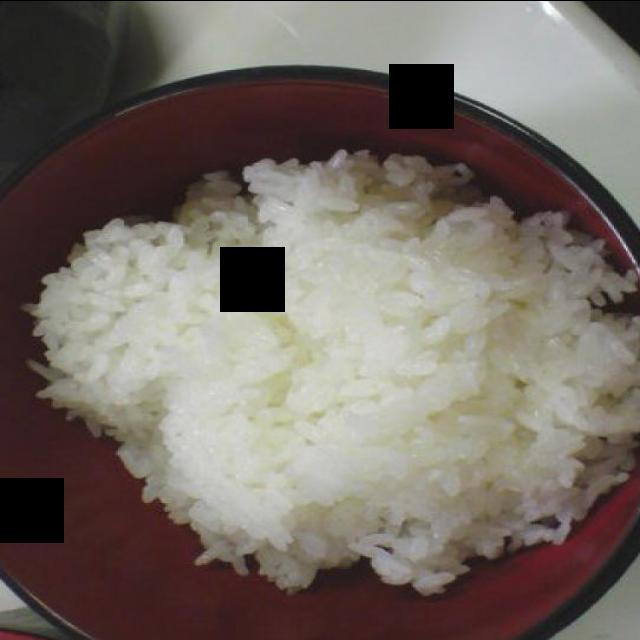rice: (16, 146, 640, 593)
